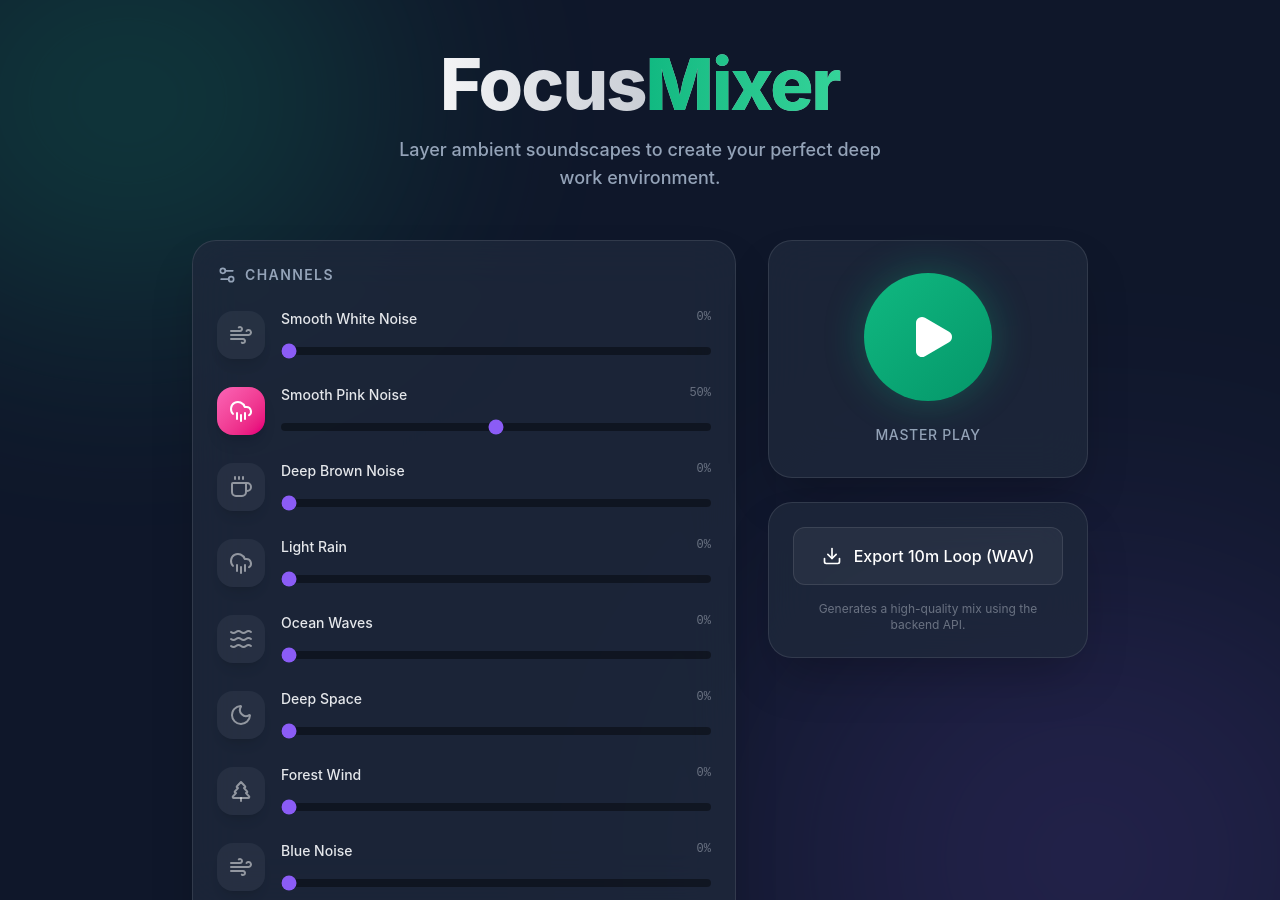
Test case: App › updates volumes
// Change Ocean Waves slider (index 4)
Set the slider below "Ocean Waves" to "75": {"x": 600, "y": 655} [281,651,711,659]
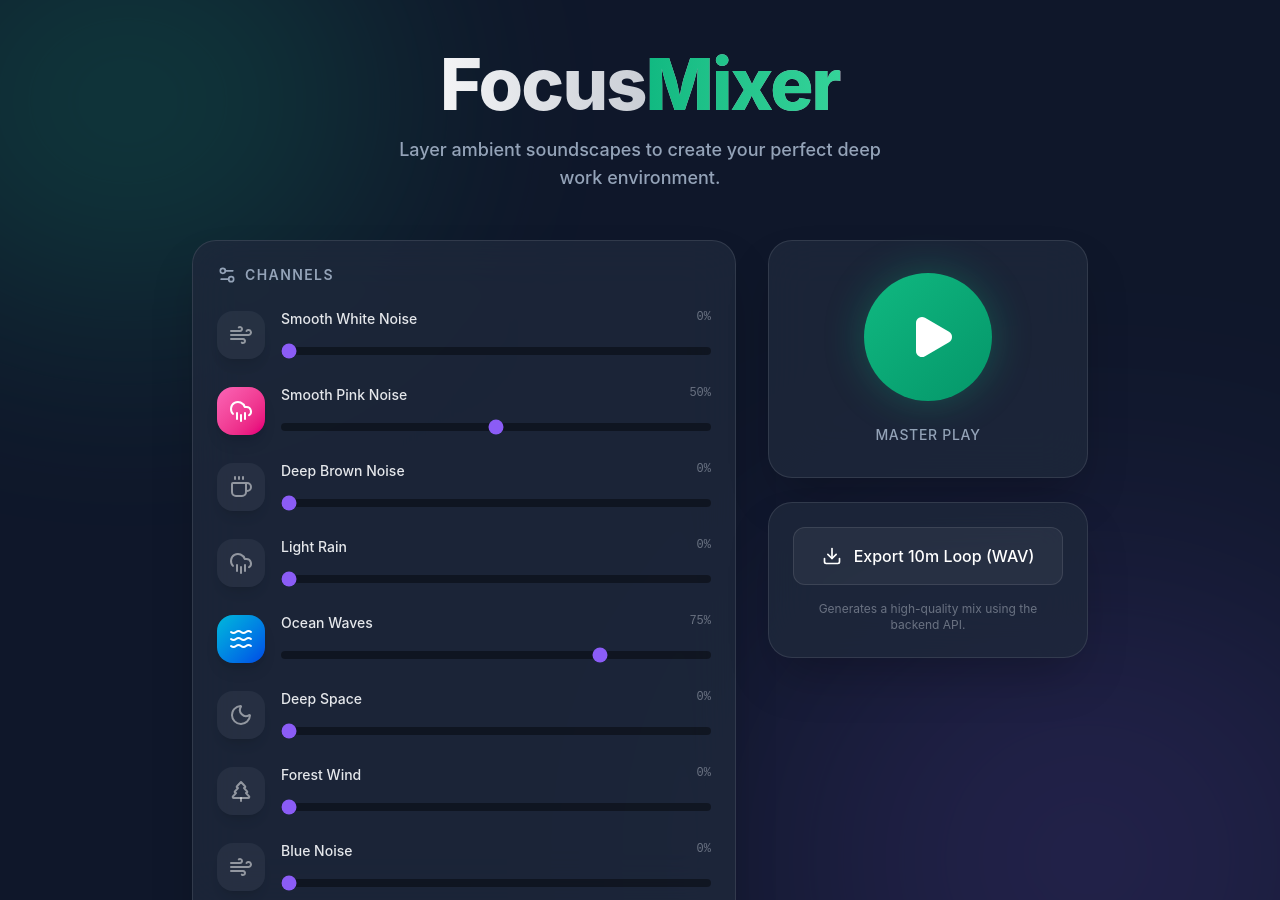
Now the text "75%" is shown, box [689,613,711,633]
